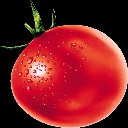tomato: (11, 25, 128, 127)
